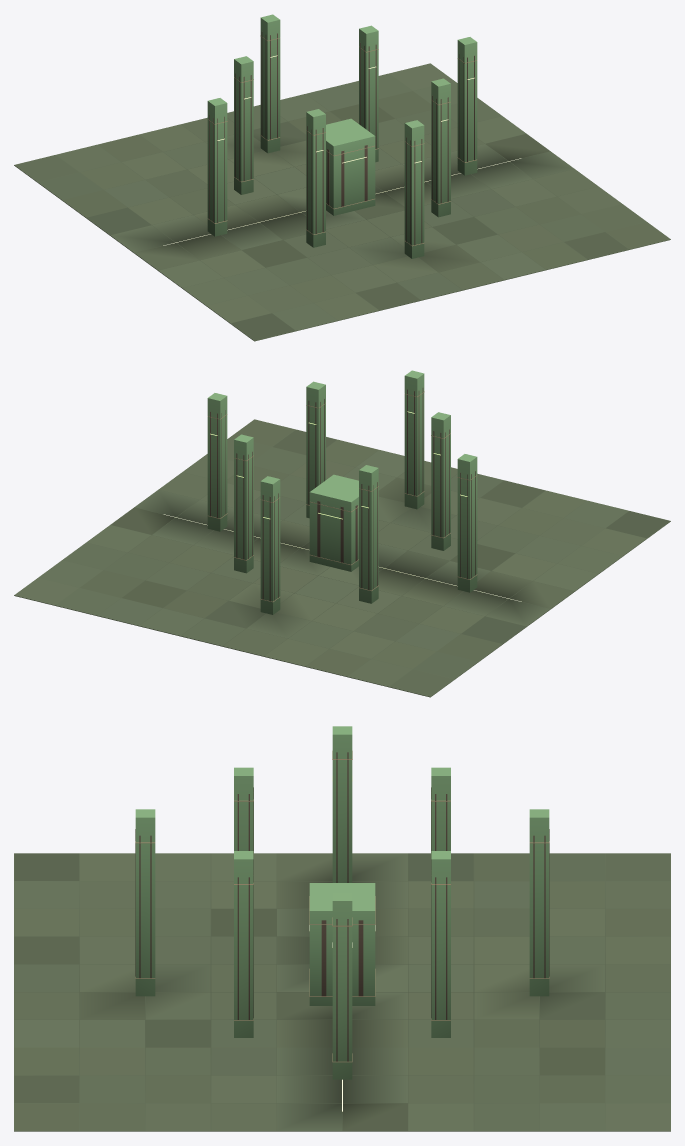
Rendered from 01_world.glb.
3 renders of one model, top to bottom at view 1: azimuth 30°, elevation 25°; view 2: azimuth 150°, elevation 25°; view 3: azimuth 270°, elevation 25°, orthographic. The views are drawn at different scales.
Parts seen in each view (by area): view 1: world_01_floor_noshadow_nocol, world_11_floor_noshadow_nocol, world_00_floor_noshadow_nocol, world_10_floor_noshadow_nocol, world_11_foam_nocol, world_01_foam_nocol, world_10_foam_nocol, world_00_foam_nocol, world_11_panel_noshadow_nocol, world_10_panel_noshadow_nocol, world_01_panel_noshadow_nocol, world_00_panel_noshadow_nocol; view 2: world_00_floor_noshadow_nocol, world_10_floor_noshadow_nocol, world_01_floor_noshadow_nocol, world_11_floor_noshadow_nocol, world_11_foam_nocol, world_10_foam_nocol, world_01_foam_nocol, world_00_foam_nocol, world_11_panel_noshadow_nocol, world_10_panel_noshadow_nocol, world_01_panel_noshadow_nocol, world_00_panel_noshadow_nocol; view 3: world_10_floor_noshadow_nocol, world_11_floor_noshadow_nocol, world_00_floor_noshadow_nocol, world_01_floor_noshadow_nocol, world_11_foam_nocol, world_10_foam_nocol, world_01_foam_nocol, world_11_panel_noshadow_nocol, world_00_foam_nocol, world_10_panel_noshadow_nocol, world_01_panel_noshadow_nocol.
Part boxes in pixels (x1,y1,x2,y2): world_01_floor_noshadow_nocol: (134, 210, 462, 341); world_11_floor_noshadow_nocol: (355, 151, 670, 290); world_00_floor_noshadow_nocol: (14, 117, 306, 252); world_10_floor_noshadow_nocol: (227, 63, 550, 193); world_11_foam_nocol: (326, 37, 477, 258); world_01_foam_nocol: (207, 98, 325, 247); world_10_foam_nocol: (260, 14, 378, 162); world_00_foam_nocol: (234, 56, 253, 194); world_11_panel_noshadow_nocol: (327, 54, 474, 245); world_10_panel_noshadow_nocol: (261, 32, 376, 148); world_01_panel_noshadow_nocol: (209, 115, 323, 233); world_00_panel_noshadow_nocol: (235, 73, 251, 180); world_00_floor_noshadow_nocol: (222, 566, 550, 697); world_10_floor_noshadow_nocol: (14, 507, 329, 646); world_01_floor_noshadow_nocol: (378, 473, 670, 608); world_11_floor_noshadow_nocol: (134, 419, 457, 549); world_11_foam_nocol: (207, 370, 424, 571); world_10_foam_nocol: (234, 434, 280, 614); world_01_foam_nocol: (431, 412, 477, 592); world_00_foam_nocol: (359, 465, 378, 603); world_11_panel_noshadow_nocol: (210, 388, 423, 562); world_10_panel_noshadow_nocol: (236, 451, 278, 601); world_01_panel_noshadow_nocol: (433, 429, 475, 578); world_00_panel_noshadow_nocol: (361, 482, 377, 589); world_10_floor_noshadow_nocol: (342, 992, 670, 1131); world_11_floor_noshadow_nocol: (14, 992, 342, 1131); world_00_floor_noshadow_nocol: (352, 853, 670, 992); world_01_floor_noshadow_nocol: (14, 853, 332, 992); world_11_foam_nocol: (135, 809, 375, 1079); world_10_foam_nocol: (431, 809, 549, 1037); world_01_foam_nocol: (234, 726, 352, 882); world_11_panel_noshadow_nocol: (135, 829, 363, 1061); world_00_foam_nocol: (431, 767, 450, 850); world_10_panel_noshadow_nocol: (431, 829, 549, 1019); world_01_panel_noshadow_nocol: (237, 752, 348, 882).
Size of the model in its own units: 100 by 30.12 by 100.
